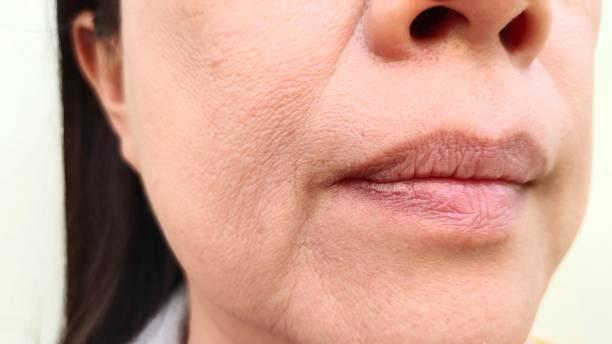Dry-Skin: (251, 208, 494, 344), (282, 157, 450, 257), (372, 102, 530, 180), (181, 0, 248, 175), (215, 44, 321, 117), (201, 15, 207, 314)
